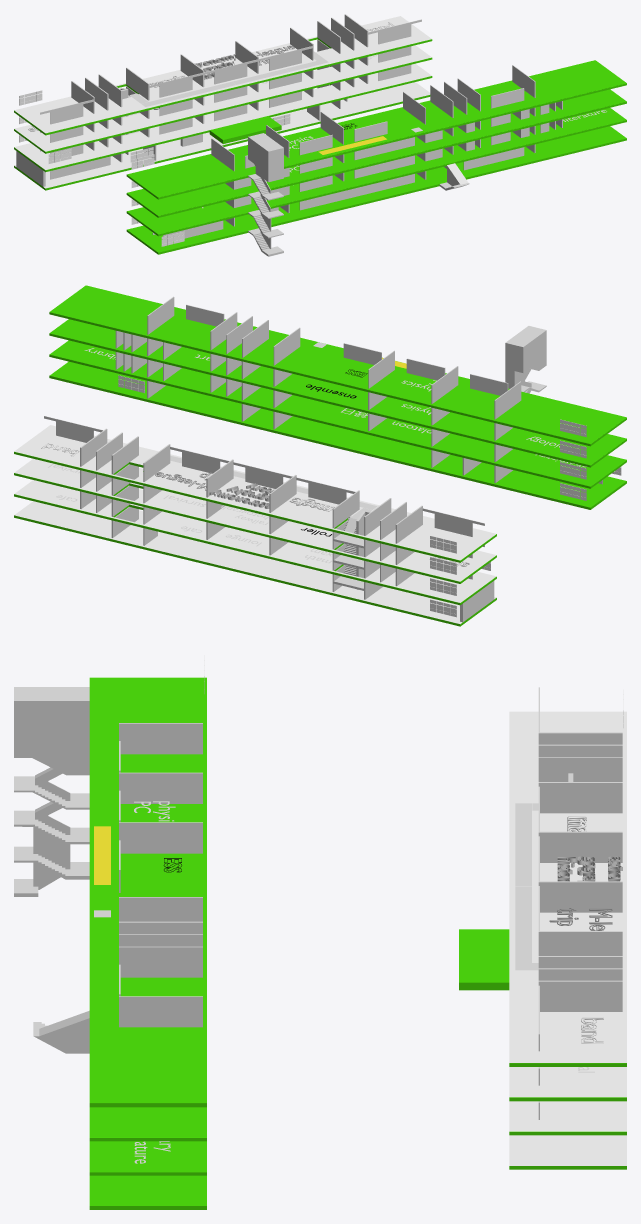
The model's file is map.glb.
3 views of the same model, one above another, from view 1: azimuth 30°, elevation 25°; view 2: azimuth 150°, elevation 25°; view 3: azimuth 270°, elevation 25° (orthographic). The views are drawn at different scales.
Visible parts, largest first — view 1: floor S 4F, floor S 3F, floor S 2F, floor 4F, floor S 1F, floor 3F, floor 2F, floor 1F, Str S 4F, wall HomeRoom~HomeRoom.002, ceiling Gate.001, wall 1C~1C (+35 smaller); view 2: floor S 4F, floor S 1F, floor S 2F, floor S 3F, floor 4F, floor 1F, floor 2F, floor 3F, Str S 4F, 天文 地歴, wall Civics~Civics, wall 1D~1D (+26 smaller); view 3: floor S 4F, floor 4F, Str S 4F, floor 1F, floor S 3F, floor S 1F, floor 2F, floor 3F, floor S 2F, ceiling Gate.001, Str S 1F, wall 1A~Out.001 (+24 smaller).
Boxes of the visible parts, x1,y1,x2,y2 form: floor S 4F: (126,60,626,199); floor S 3F: (126,89,626,217); floor S 2F: (126,108,626,236); floor 4F: (14,16,432,135); floor S 1F: (126,126,626,254); floor 3F: (14,45,432,153); floor 2F: (14,63,432,172); floor 1F: (14,82,430,190); Str S 4F: (248,133,283,200); wall HomeRoom~HomeRoom.002: (299,174,414,210); ceiling Gate.001: (209,116,281,143); wall 1C~1C: (204,59,257,84); floor S 4F: (49,285,626,446); floor S 1F: (49,361,626,509); floor S 2F: (49,340,626,488); floor S 3F: (49,319,626,467); floor 4F: (14,425,496,562); floor 1F: (14,501,496,626); floor 2F: (14,480,496,605); floor 3F: (14,459,496,583); Str S 4F: (505,326,546,392); 天文 地歴: (209,483,274,508); wall Civics~Civics: (422,508,484,536); wall 1D~1D: (296,477,355,504); floor S 4F: (89,677,206,1107); floor 4F: (509,711,626,1066); Str S 4F: (14,687,89,792); floor 1F: (509,1135,626,1169); floor S 3F: (89,1107,206,1141); floor S 1F: (89,1175,206,1209); floor 2F: (509,1101,626,1135); floor 3F: (509,1067,626,1101); floor S 2F: (89,1141,206,1175); ceiling Gate.001: (459,929,509,990); Str S 1F: (33,842,89,1053); wall 1A~Out.001: (119,996,202,1027).
Size of the model in its own units: 90 by 21 by 54.75.
